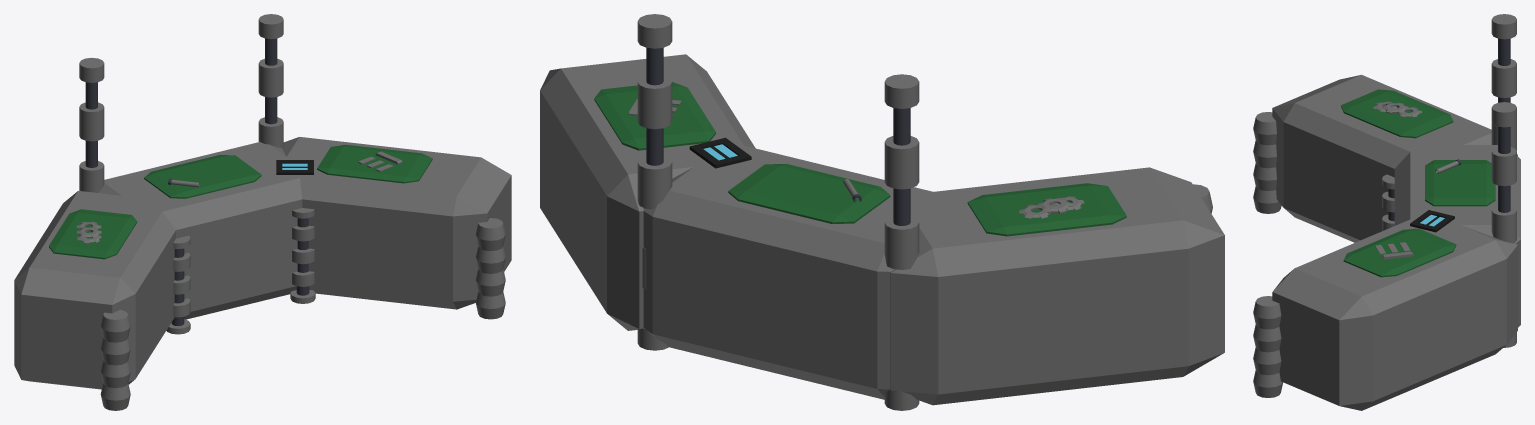
Rendered from Crafting_Bench.fbx.
The picture shows the model from 3 angles, left to right: view 1: azimuth 30°, elevation 25°; view 2: azimuth 150°, elevation 25°; view 3: azimuth 270°, elevation 25°; orthographic projection. The views are drawn at different scales.
Visible parts, largest first — view 1: block_bevel (×6), tube_steel (×4), tube_rubber (×2), window_low; view 2: block_bevel (×6), tube_steel (×2), window_low; view 3: block_bevel (×6), tube_steel (×3), tube_rubber (×2), window_low, detail_panelsC.
Part boxes in pixels (x1,y1,x2,y2): block_bevel (×6): (14, 137, 511, 389); tube_steel (×4): (79, 14, 315, 334); tube_rubber (×2): (100, 218, 505, 410); window_low: (276, 160, 313, 174); block_bevel (×6): (540, 54, 1224, 405); tube_steel (×2): (637, 14, 919, 410); window_low: (689, 137, 751, 168); block_bevel (×6): (1272, 74, 1520, 410); tube_steel (×3): (1382, 14, 1516, 347); tube_rubber (×2): (1253, 112, 1282, 397); window_low: (1410, 210, 1454, 232); detail_panelsC: (1375, 242, 1413, 259).
Bounding box in the file's own units: 45.1 × 20.56 × 21.2.
